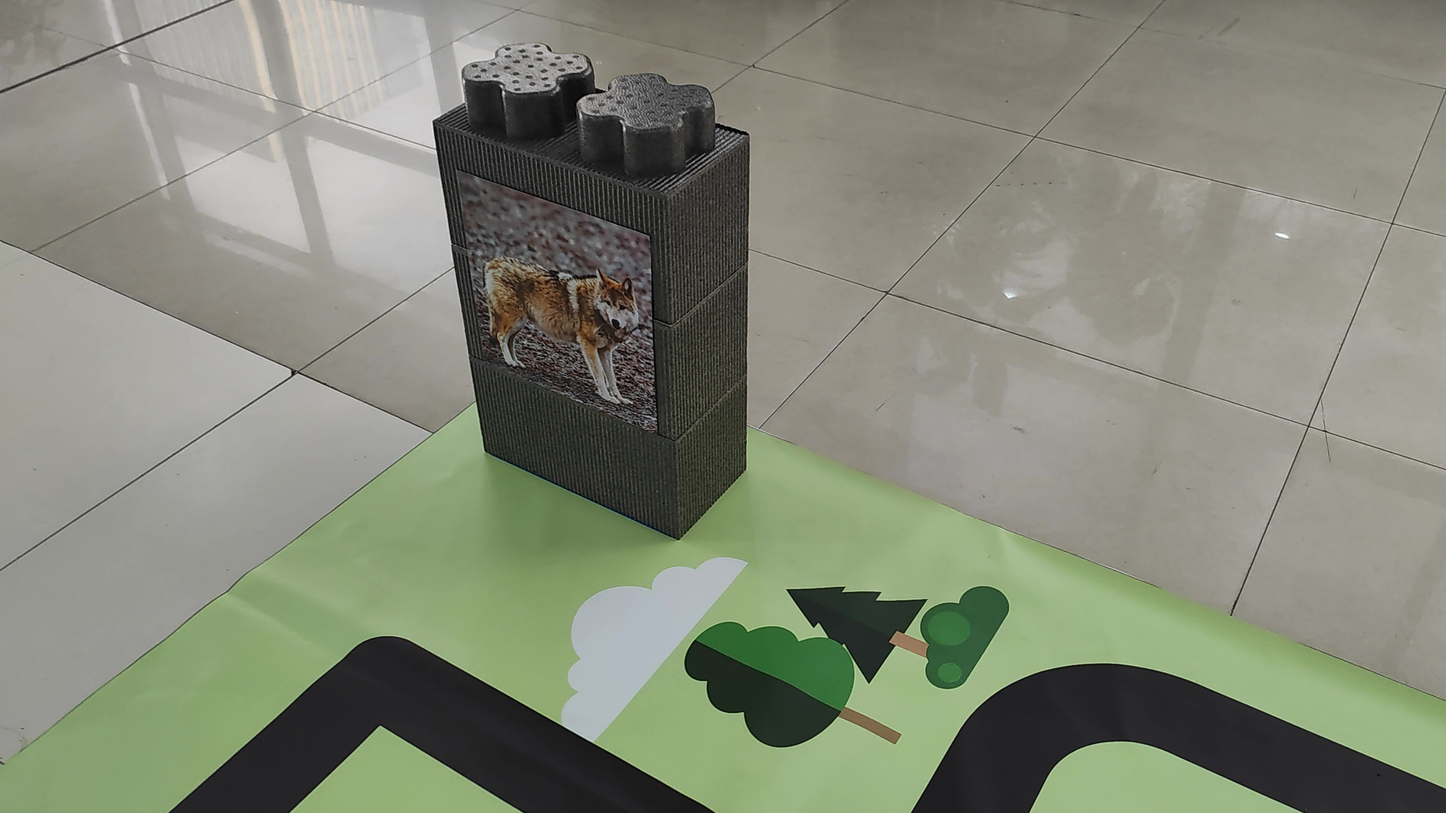wolf: (468, 227, 649, 414)
